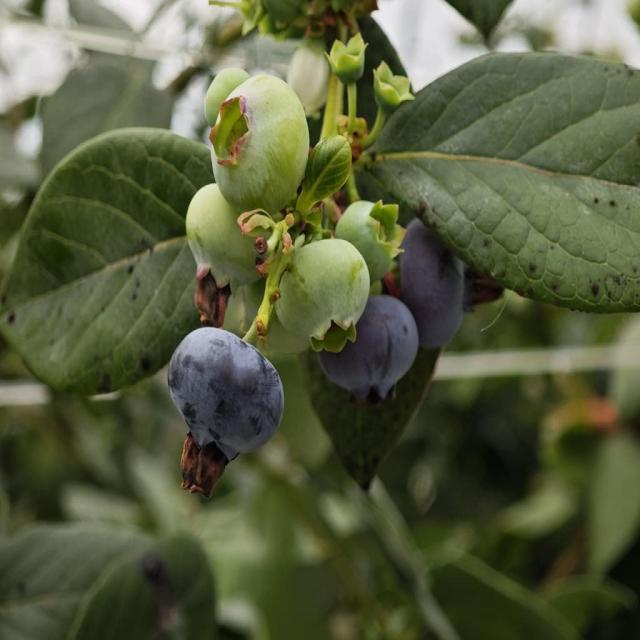RipeBlueBerry: (168, 326, 284, 465), (401, 214, 477, 352), (322, 296, 419, 399)
UnripeBlueBerry: (208, 74, 310, 208), (277, 238, 370, 351), (186, 183, 272, 293)
